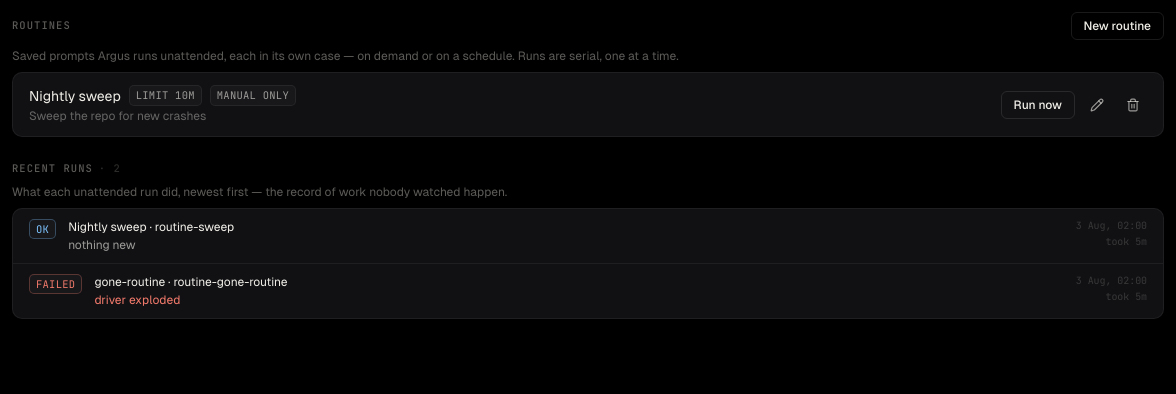
Scenario: RoutinesPage — running on demand › surfaces a runNow rejection inline without replacing the page
Expected: the text "Nightly sweep" is shown, [29,88,121,104]
Click the button "Run now".
click(1038, 104)  # box [1000,90,1075,118]
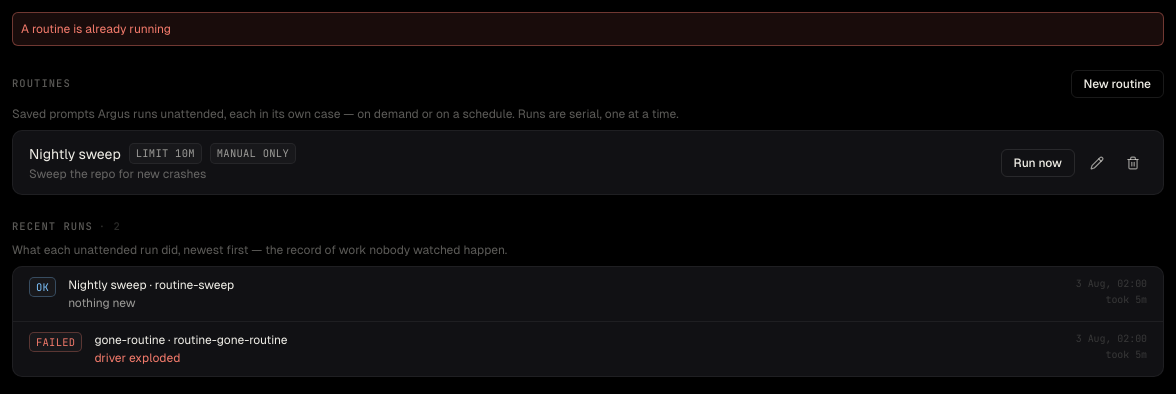
Expected: the text "Nightly sweep" is shown, [29,146,121,162]
Expected: the text "A routine is already running" is shown, [12,12,1164,46]
